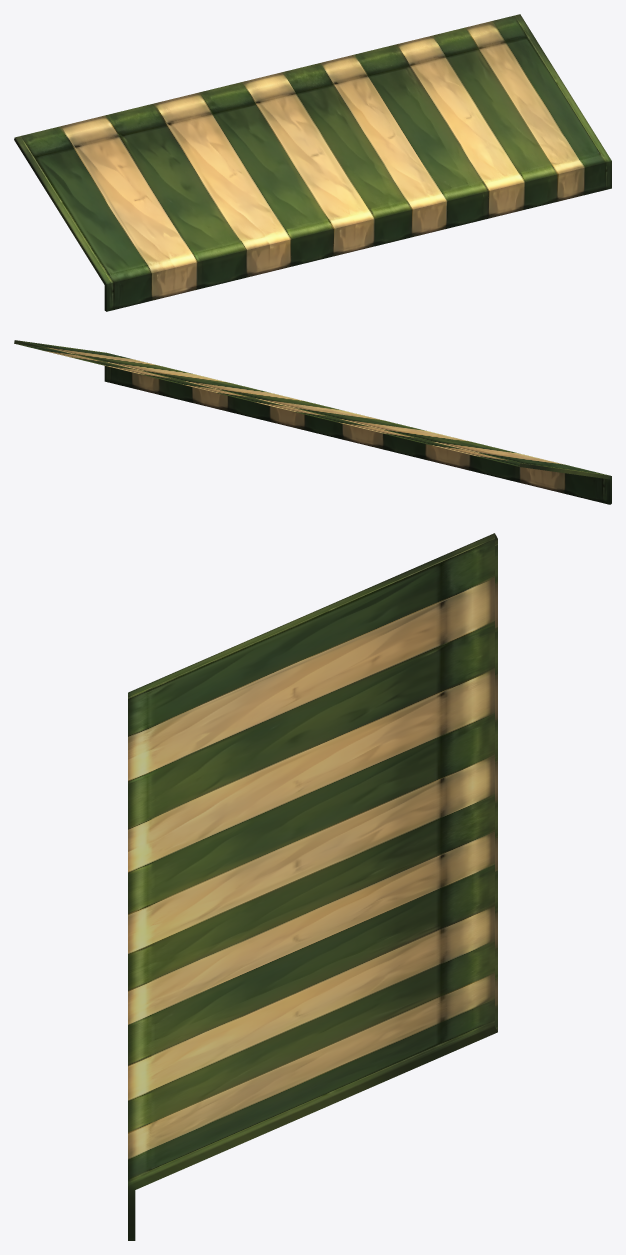
File: BRK_Awning4.fbx
3 renders of one model, top to bottom at view 1: azimuth 30°, elevation 25°; view 2: azimuth 150°, elevation 25°; view 3: azimuth 270°, elevation 25°, orthographic. The views are drawn at different scales.
Visible parts, largest first — view 1: BRK_Awning4; view 2: BRK_Awning4; view 3: BRK_Awning4.
Boxes of the visible parts, x1=… form: BRK_Awning4: x1=14, y1=14, x2=611, y2=311; BRK_Awning4: x1=14, y1=340, x2=611, y2=504; BRK_Awning4: x1=128, y1=533, x2=497, y2=1240.
Bounding box in the file's own units: 4 × 1.27 × 0.8113.
1 material, 1 textured.
